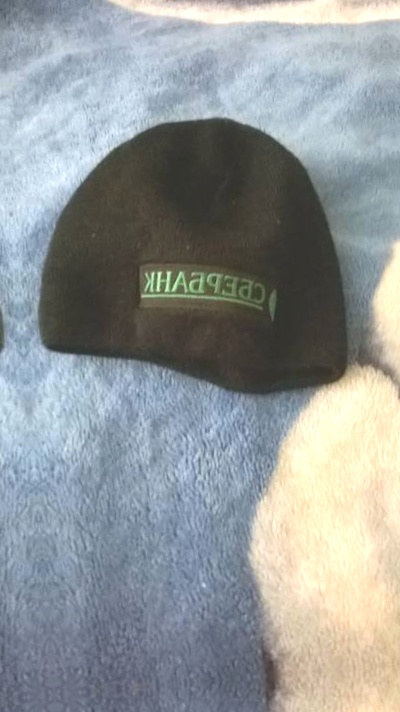Hat: (2, 81, 400, 453), (0, 114, 32, 486)
